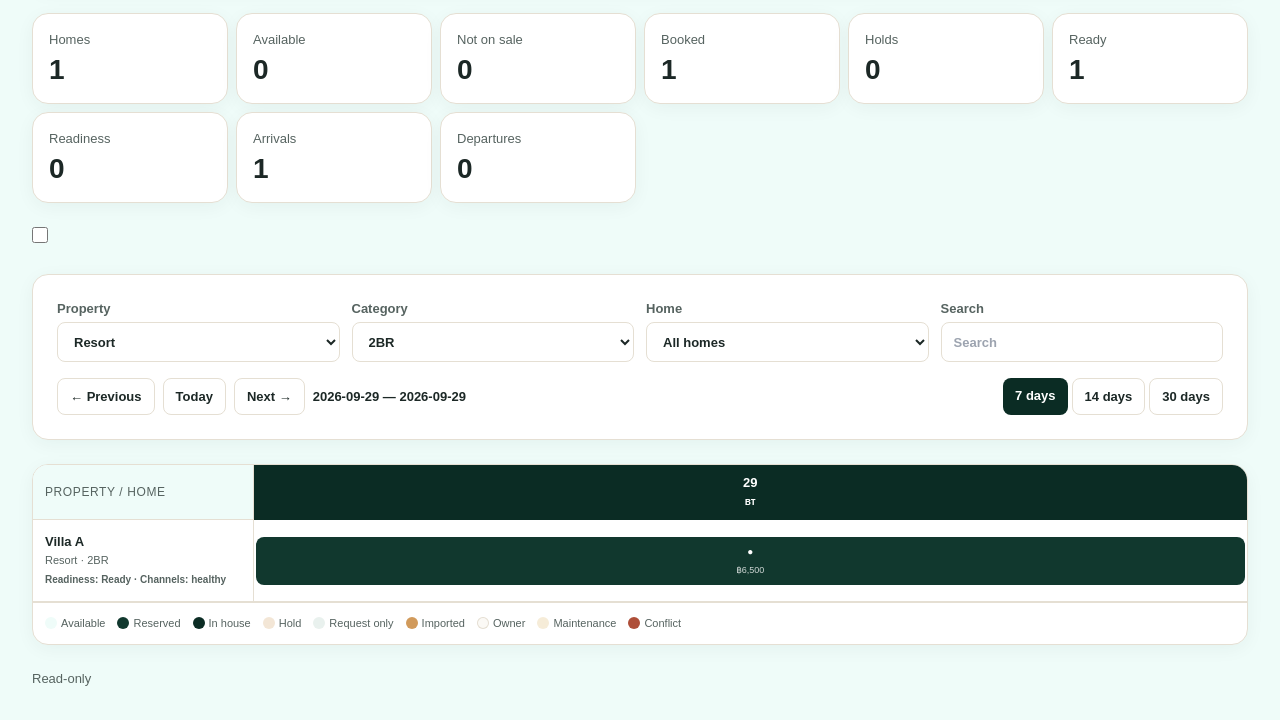
Test: one calendar surface with mode-specific safe actions › retains staff canonical stay actions and unit editor
(page scrolled)
Click the button "● ฿6,500".
click(750, 551)  # box [256,536,1245,584]
(page scrolled)
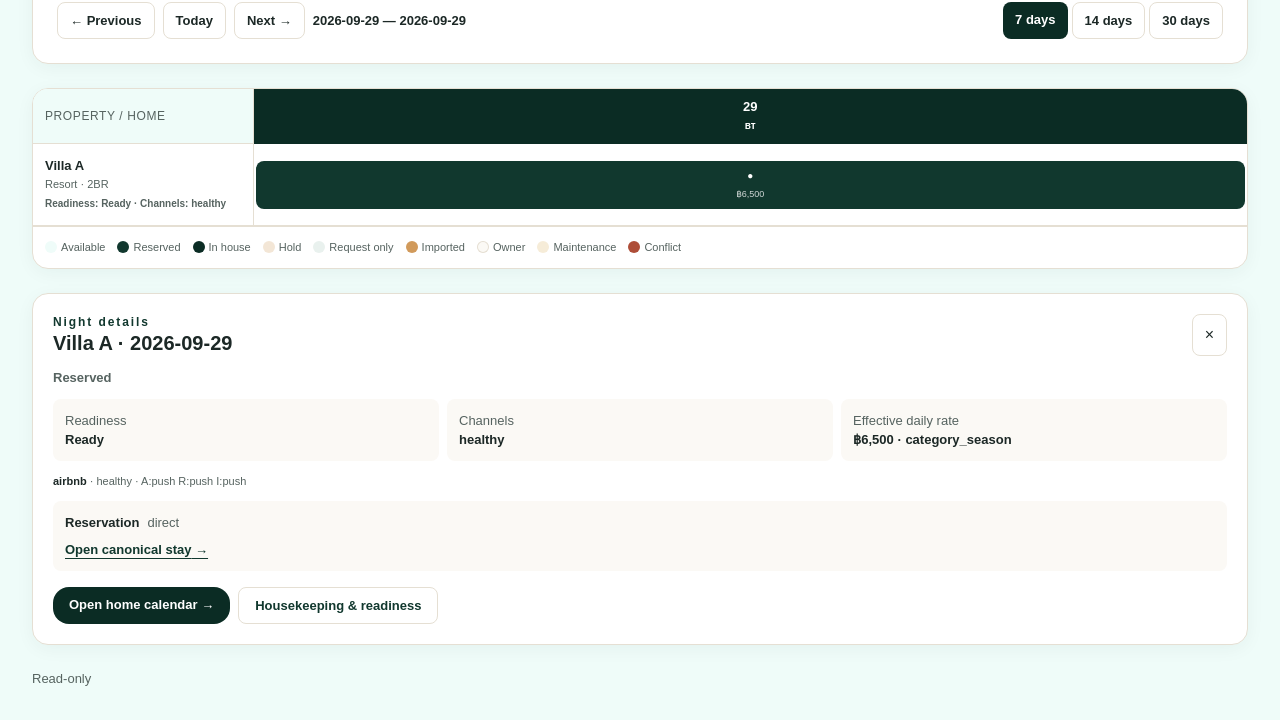
expect the text "฿6,500 · category_season" is shown: met, box [853,432,1012,446]
